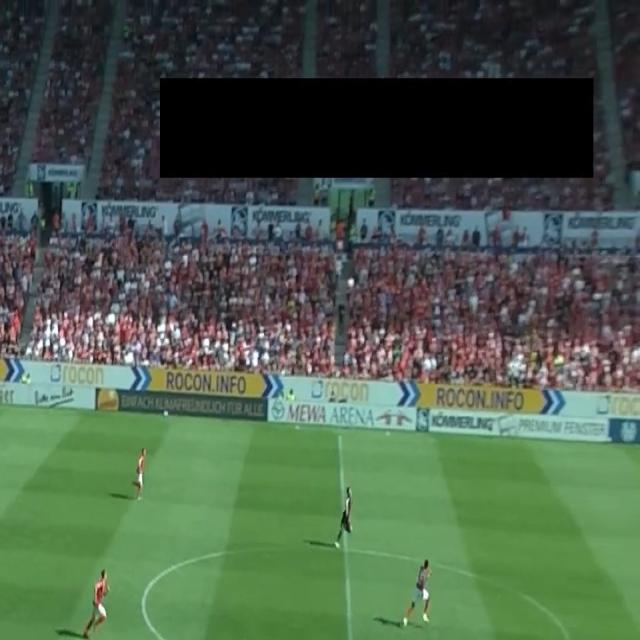ball: (347, 276, 355, 289)
